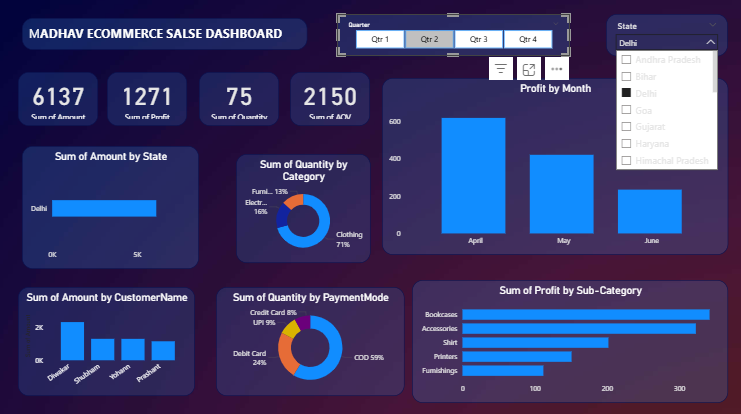

This screenshot's page, from the dashboard's own definition file:
{"tool":"powerbi","page":{"name":"Page 1","canvas":[1280,720],"ordinal":0},"visuals":[{"type":"columnChart","title":"Profit by Month","fields":{"Y":["Details.Profit"],"Category":["Orders.Order Date.Variation.Date Hierarchy.Month"]},"box":[660,135,596.7,305],"z":0},{"type":"textbox","box":[40,31.7,491.7,55],"z":1000},{"type":"barChart","fields":{"Category":["Details.Sub-Category"],"Y":["Details.Profit"]},"box":[711.7,483.3,545,211.7],"z":2000},{"type":"donutChart","fields":{"Category":["Details.Category"],"Y":["Details.Quantity"]},"box":[408.3,265,231.7,188.3],"z":3000},{"type":"donutChart","fields":{"Y":["Details.Quantity"],"Category":["Details.PaymentMode"]},"box":[375,495,325,188.3],"z":4000},{"type":"card","fields":{"Values":["Details.Amount"]},"box":[33.3,123.3,138.3,93.3],"z":5000},{"type":"card","fields":{"Values":["Details.Profit"]},"box":[186.7,123.3,138.3,93.3],"z":6000},{"type":"card","fields":{"Values":["Details.Quantity"]},"box":[345,123.3,138.3,93.3],"z":7000},{"type":"card","fields":{"Values":["Details.AOV"]},"box":[501.7,123.3,138.3,93.3],"z":8000},{"type":"barChart","fields":{"Category":["Orders.State"],"Y":["Details.Amount"]},"box":[40,251.7,305,211.7],"z":9000},{"type":"clusteredColumnChart","fields":{"Category":["Orders.CustomerName"],"Y":["Details.Amount"]},"box":[33.3,495,305,188.3],"z":10000},{"type":"slicer","fields":{"Values":["Orders.Order Date.Variation.Date Hierarchy.Quarter"]},"box":[583.3,23.3,401.7,73.3],"z":11000},{"type":"slicer","fields":{"Values":["Orders.State"]},"box":[1046.7,23.3,210,73.3],"z":12000}]}

Visuals, with their boxes in screenshot pixels (x1, y1, x2, y2), scaled from the page's 1280x720 canvas onto the 741x414 screenshot:
"Profit by Month" columnChart: 382,78,728,253
textbox: 23,18,308,50
barChart - Details.Sub-Category x Details.Profit: 412,278,728,400
donutChart - Details.Category x Details.Quantity: 236,152,370,261
donutChart - Details.Quantity x Details.PaymentMode: 217,285,405,393
card - Details.Amount: 19,71,99,125
card - Details.Profit: 108,71,188,125
card - Details.Quantity: 200,71,280,125
card - Details.AOV: 290,71,370,125
barChart - Orders.State x Details.Amount: 23,145,200,266
clusteredColumnChart - Orders.CustomerName x Details.Amount: 19,285,196,393
slicer - Orders.Order Date.Variation.Date Hierarchy.Quarter: 338,13,570,56
slicer - Orders.State: 606,13,728,56
